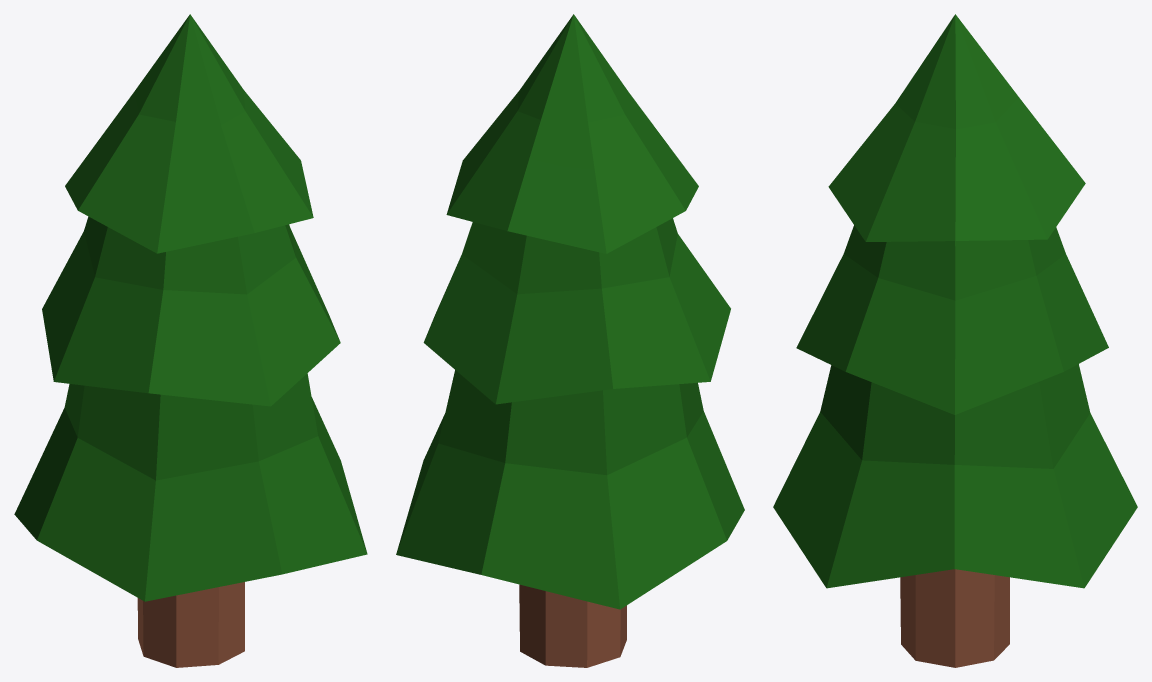
Rendered from tree1.gltf.
3 views of the same model, side by side, from view 1: azimuth 30°, elevation 25°; view 2: azimuth 150°, elevation 25°; view 3: azimuth 270°, elevation 25° (orthographic).
Visible parts, largest first — view 1: Tree_01_autumn_mat; view 2: Tree_01_autumn_mat; view 3: Tree_01_autumn_mat.
Boxes of the visible parts, x1=… form: Tree_01_autumn_mat: x1=14, y1=14, x2=367, y2=667; Tree_01_autumn_mat: x1=396, y1=14, x2=744, y2=667; Tree_01_autumn_mat: x1=773, y1=14, x2=1137, y2=667.
Bounding box in the file's own units: 3.33 × 6.61 × 3.47.
